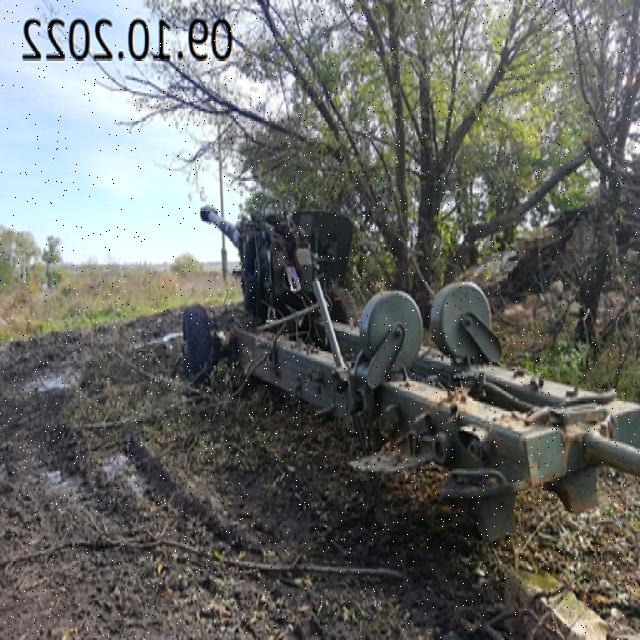ART: (181, 189, 640, 520)
